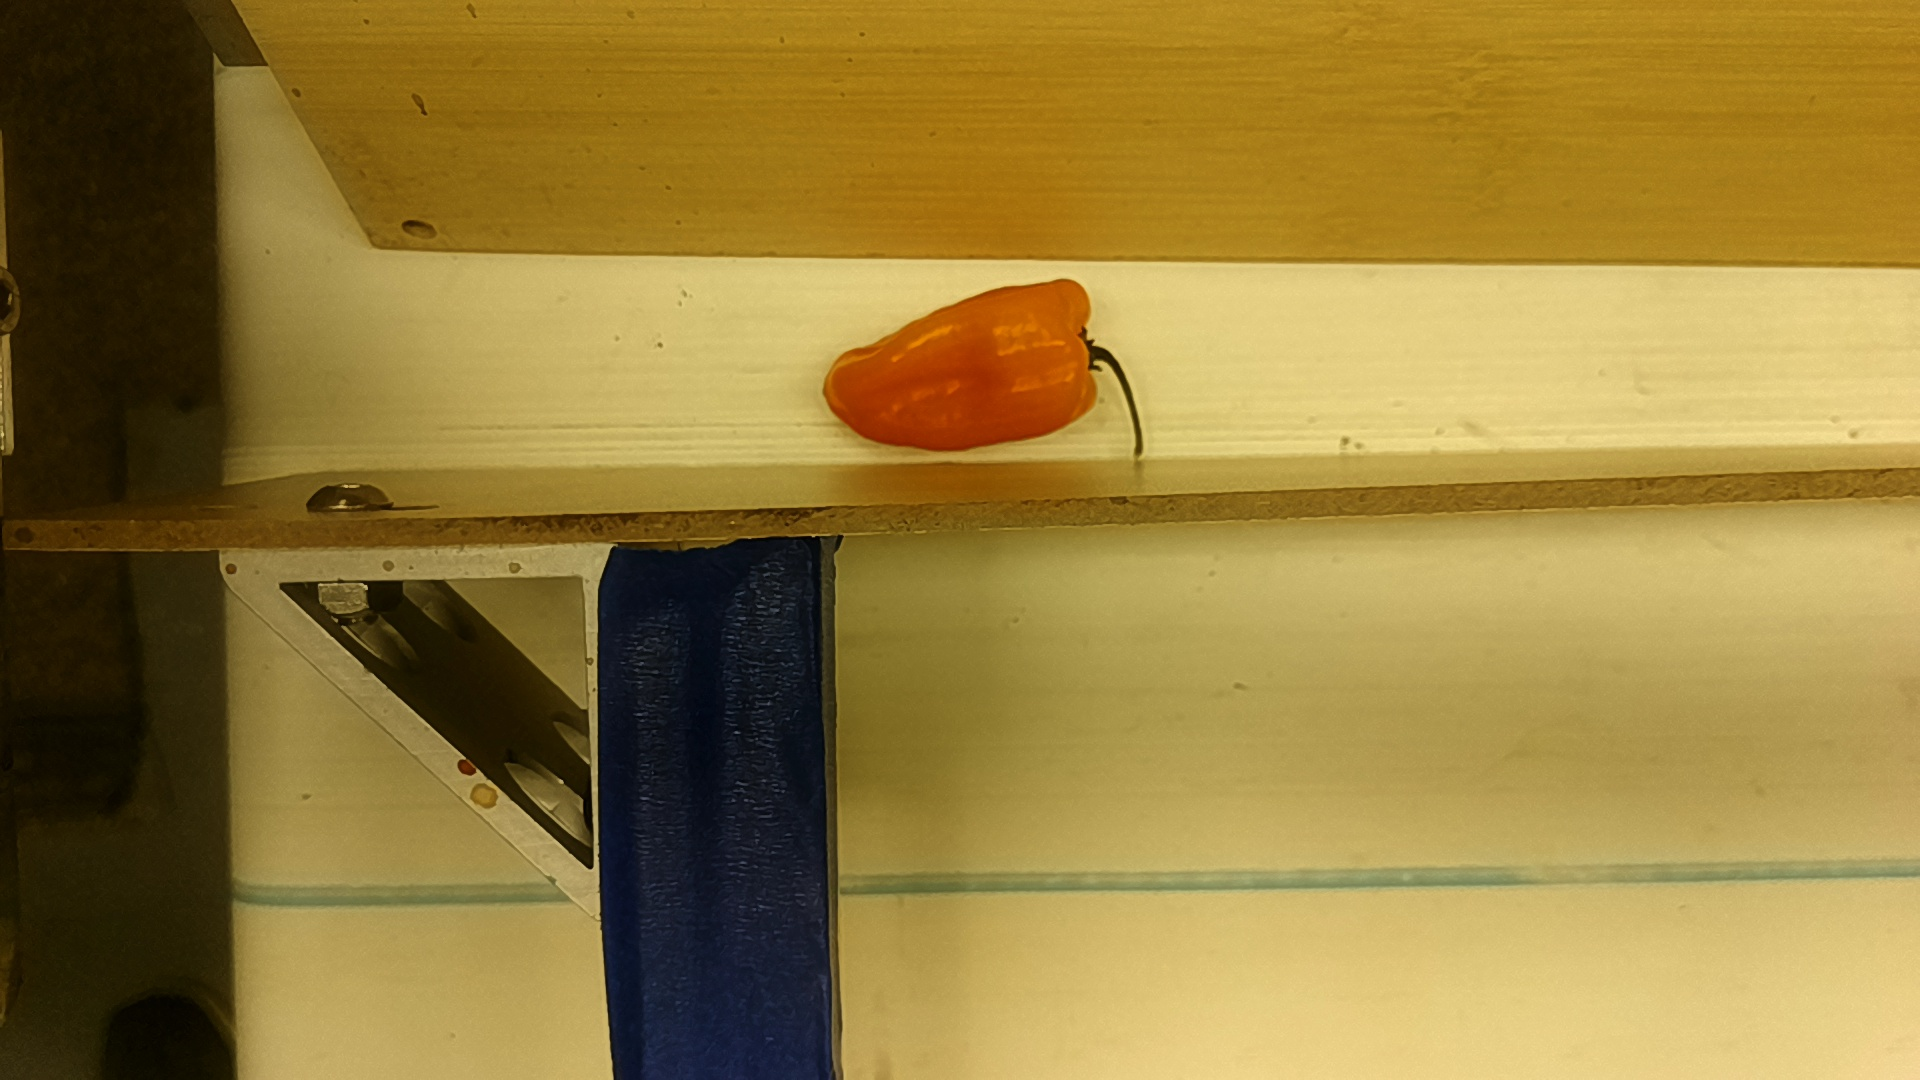Cut Point: (1056, 269, 1105, 426)
